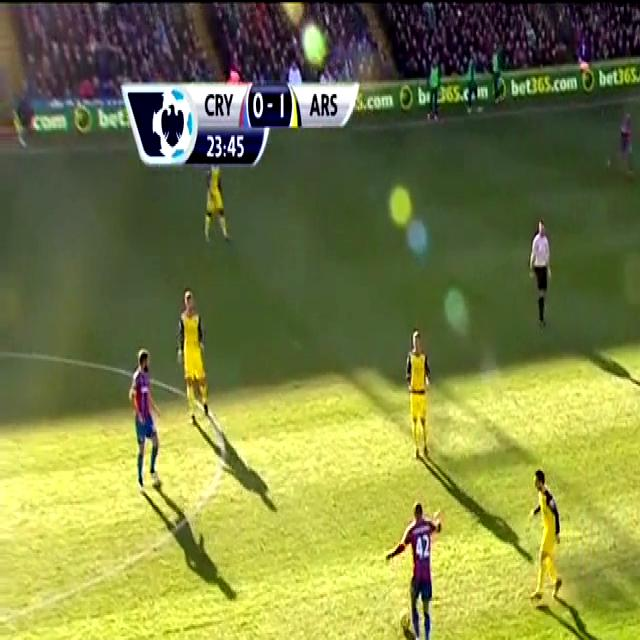ball: (395, 596, 411, 636)
soccer-player: (123, 346, 174, 495), (526, 468, 572, 614), (174, 284, 216, 413), (409, 489, 441, 640), (403, 324, 437, 426), (525, 218, 560, 310), (199, 167, 238, 249), (616, 112, 636, 171), (639, 172, 640, 276)
